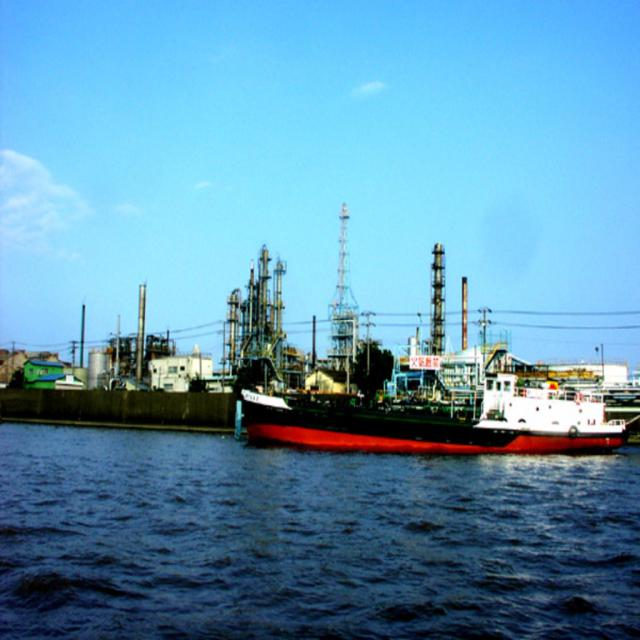Boat: (225, 368, 639, 449)
